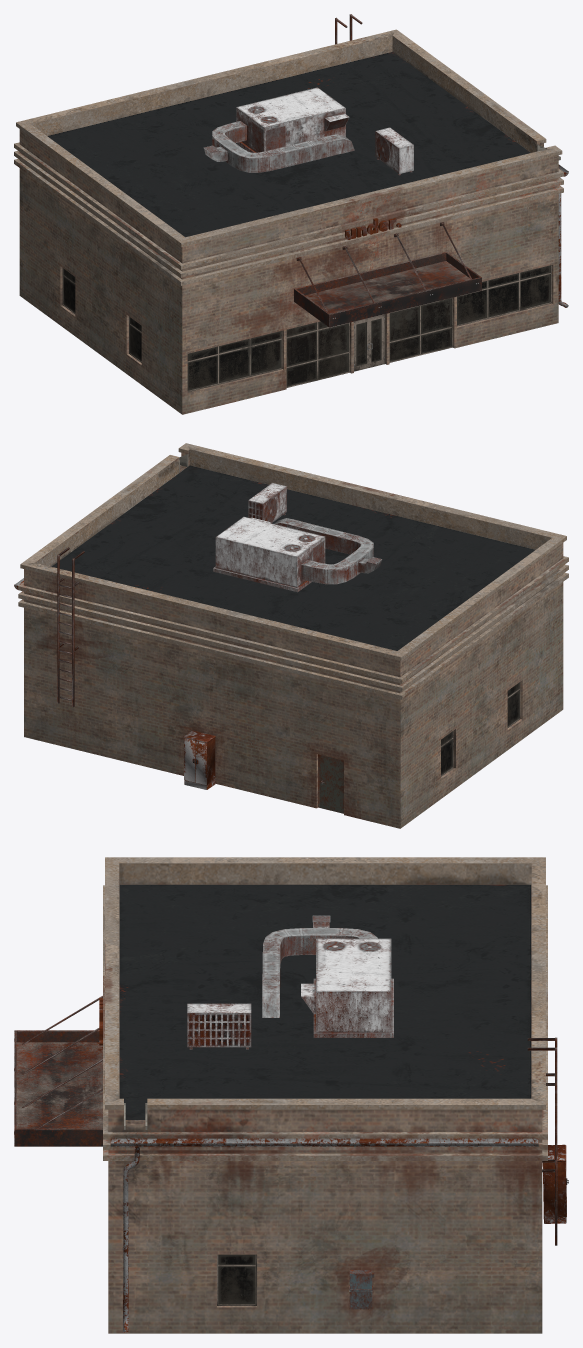
File: game-ready_an_abandoned_shop.glb
3 views of the same model, one above another, from view 1: azimuth 30°, elevation 25°; view 2: azimuth 150°, elevation 25°; view 3: azimuth 270°, elevation 25° (orthographic). The views are drawn at different scales.
Visible parts, largest first — view 1: store; view 2: store; view 3: store.
Boxes of the visible parts, x1=… form: store: x1=14, y1=14, x2=568, y2=414; store: x1=14, y1=443, x2=568, y2=828; store: x1=14, y1=857, x2=568, y2=1333.
Size of the model in its own units: 16.85 by 7.94 by 15.35.
4 materials, 4 textured.
